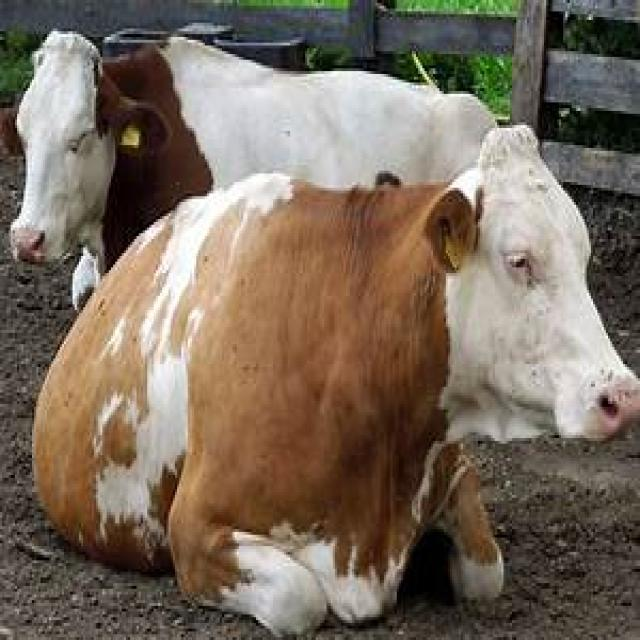cow: (30, 125, 640, 640), (9, 31, 499, 284)
